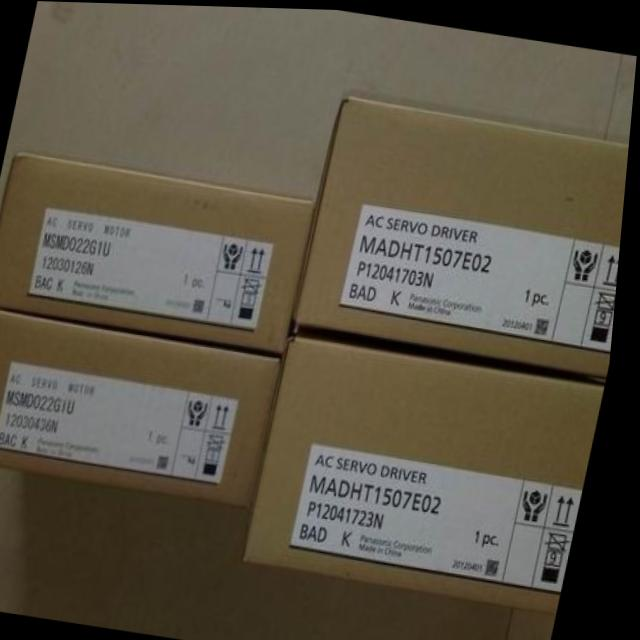box: (256, 333, 609, 608), (297, 96, 631, 370), (0, 151, 317, 354), (0, 309, 289, 506)
